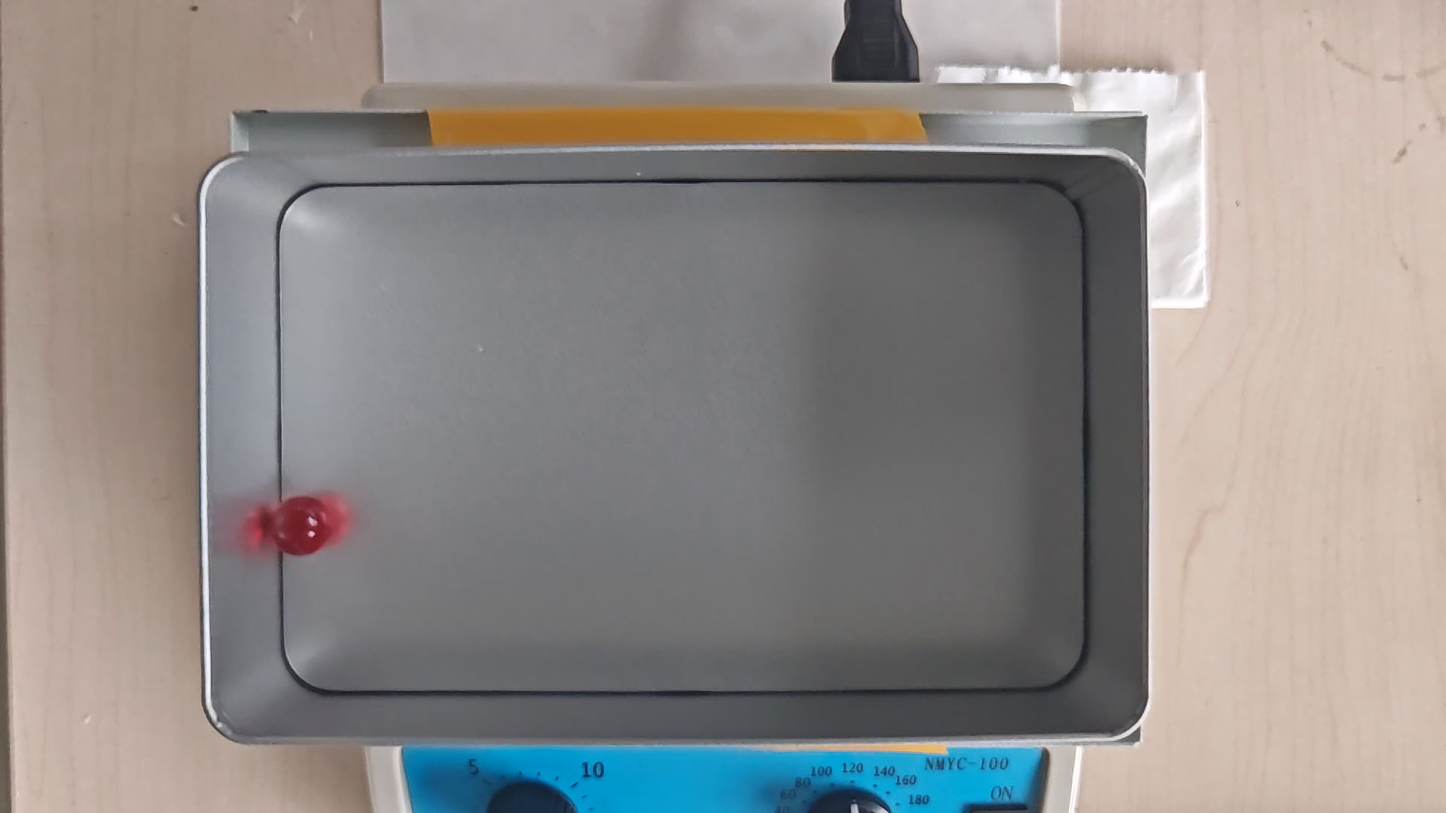ball: (273, 498, 331, 556)
container: (279, 179, 1087, 692)
